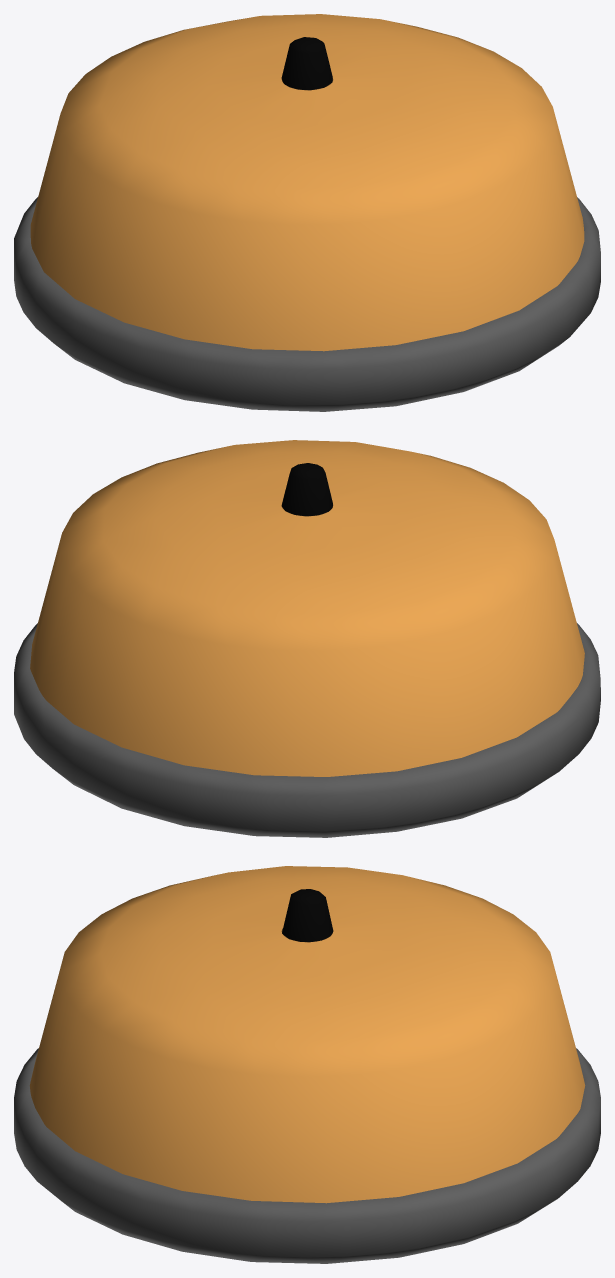
The model's file is Bell.fbx.
3 views of the same model, one above another, from view 1: azimuth 30°, elevation 25°; view 2: azimuth 150°, elevation 25°; view 3: azimuth 270°, elevation 25° (orthographic).
Visible parts, largest first — view 1: Bell; view 2: Bell; view 3: Bell.
Boxes of the visible parts, x1,y1,x2,y2 form: Bell: (14, 14, 600, 411); Bell: (14, 440, 600, 837); Bell: (14, 866, 600, 1263).
Bounding box in the file's own units: 69.58 × 33.09 × 69.58.
